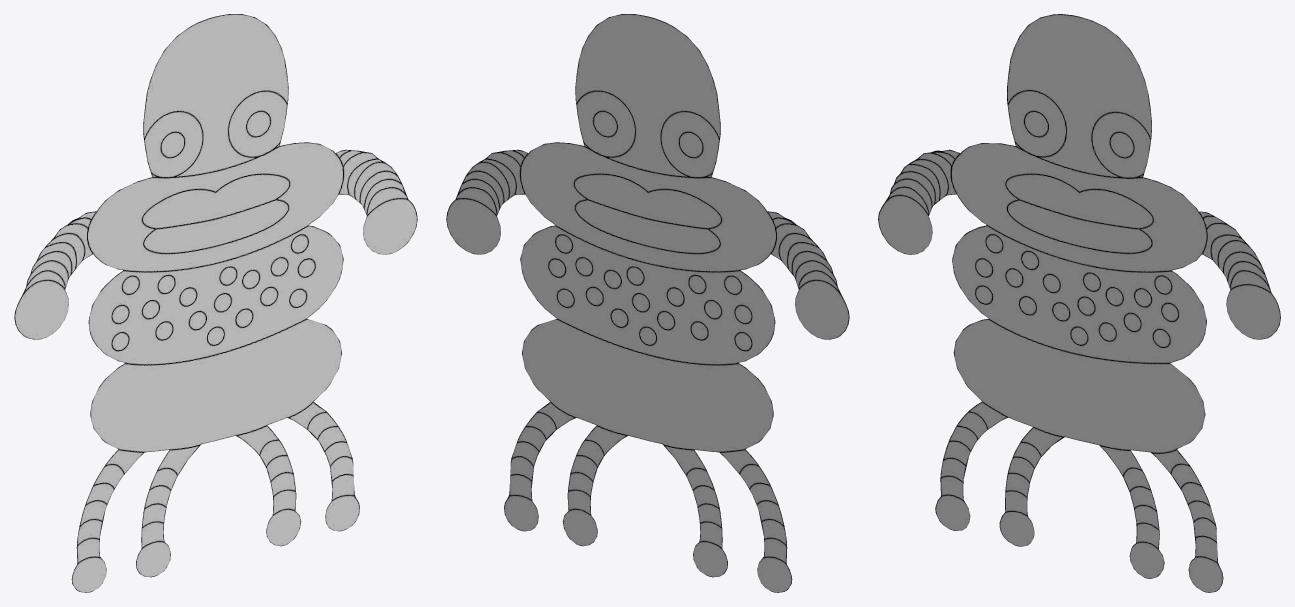
The model's file is 7_muyul_fix.fbx.
The picture shows the model from 3 angles, left to right: view 1: azimuth 30°, elevation 25°; view 2: azimuth 150°, elevation 25°; view 3: azimuth 330°, elevation 25°; orthographic projection.
Visible parts, largest first — view 1: planarTrimmedSurfsdsdace1; view 2: planarTrimmedSurfsdsdace1; view 3: planarTrimmedSurfsdsdace1.
Boxes of the visible parts, x1,y1,x2,y2 form: planarTrimmedSurfsdsdace1: (14,14,417,592); planarTrimmedSurfsdsdace1: (446,14,849,592); planarTrimmedSurfsdsdace1: (878,14,1280,592).
Size of the model in its own units: 9.97 by 12.9 by 5.64e-07.
1 material, 1 textured.
